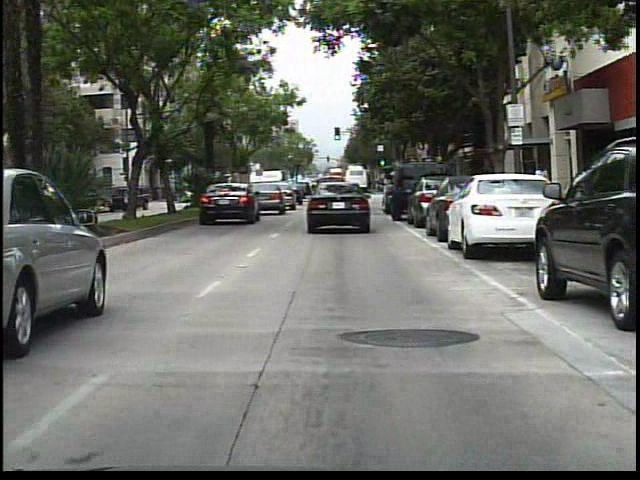person: (530, 157, 554, 220)
